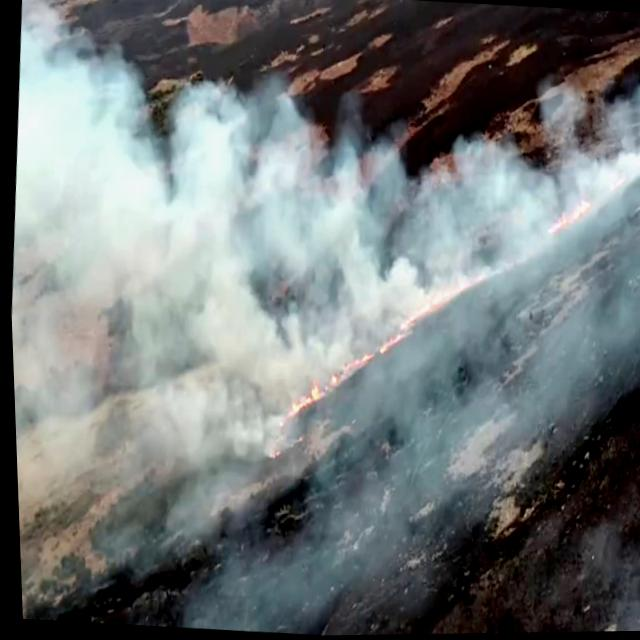smoke: (89, 73, 316, 381), (2, 55, 159, 316), (381, 153, 542, 388), (296, 155, 437, 374), (528, 122, 640, 335), (0, 0, 53, 331)
